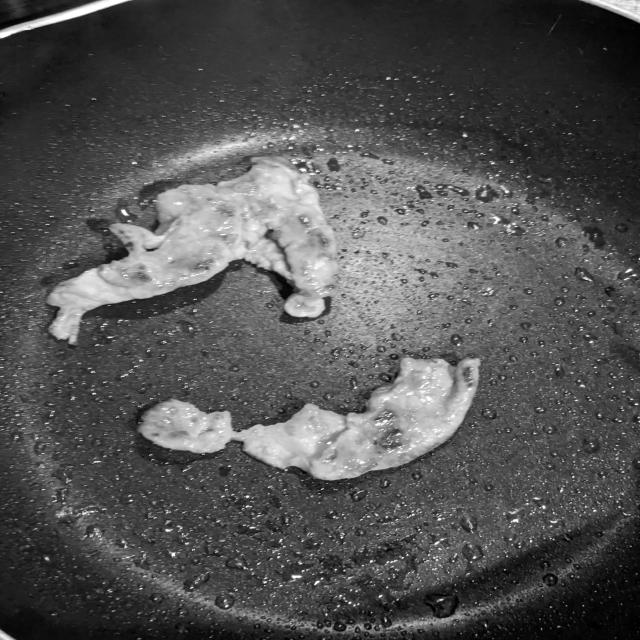OK cooked pork,: (37, 152, 342, 353), (133, 352, 486, 486)
